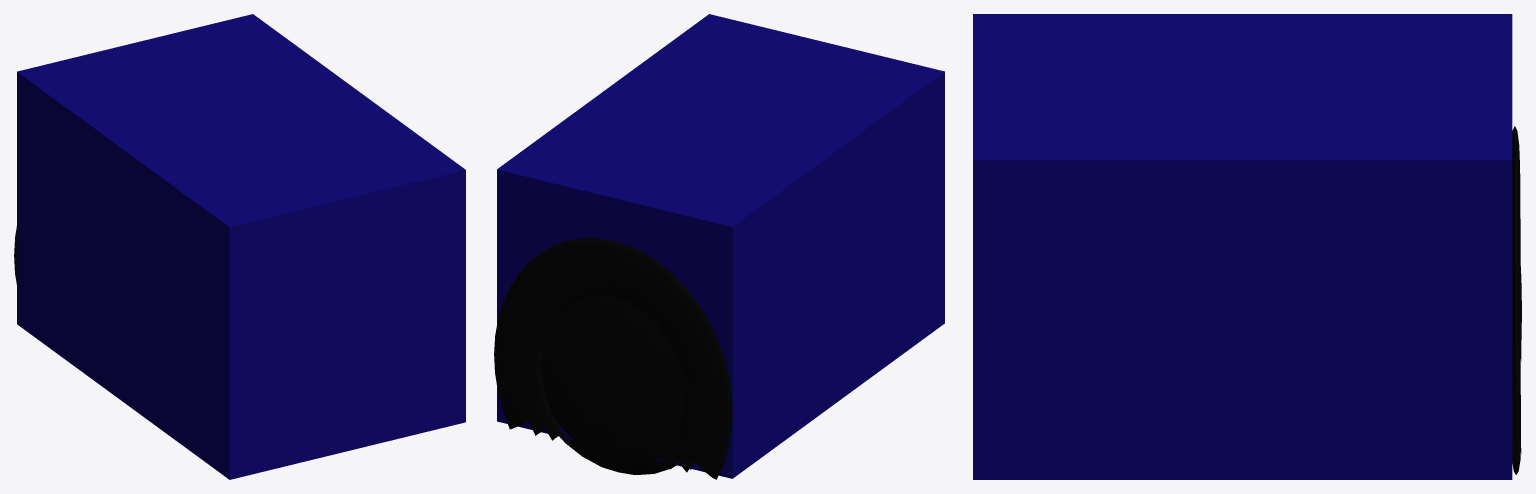
Rendered from ТОНЕЛЬfbx.fbx.
The picture shows the model from 3 angles, left to right: view 1: azimuth 30°, elevation 25°; view 2: azimuth 150°, elevation 25°; view 3: azimuth 270°, elevation 25°; orthographic projection. The views are drawn at different scales.
Parts seen in each view (by area): view 1: Cube; view 2: Cube, Torus, Sphere; view 3: Cube, Torus.
Part boxes in pixels (x1,y1,x2,y2): Cube: (17, 14, 465, 479); Cube: (497, 14, 944, 478); Torus: (494, 238, 732, 479); Sphere: (541, 296, 684, 474); Cube: (973, 14, 1512, 479); Torus: (1512, 126, 1521, 474).
Size of the model in its own units: 1814 by 2012 by 2846.
